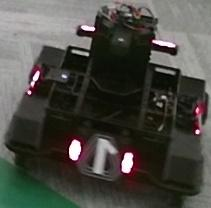armor_1: (69, 139, 133, 174)
